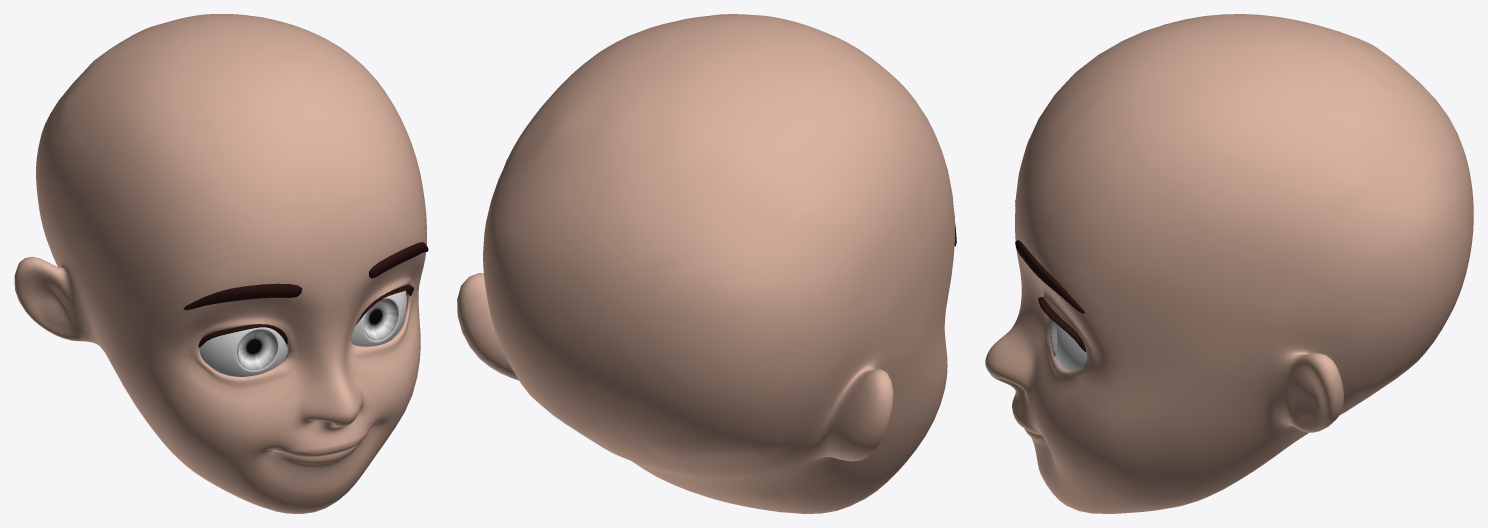
The picture shows the model from 3 angles, left to right: view 1: azimuth 30°, elevation 25°; view 2: azimuth 150°, elevation 25°; view 3: azimuth 270°, elevation 25°; orthographic projection. The views are drawn at different scales.
Parts seen in each view (by area): view 1: skin, eyes, brows, lashes; view 2: skin; view 3: skin, eyes, brows.
Boxes of the visible parts, bbox=[...] form: skin: bbox=[14, 14, 426, 513]; eyes: bbox=[199, 290, 406, 376]; brows: bbox=[183, 242, 428, 310]; lashes: bbox=[198, 285, 413, 347]; skin: bbox=[457, 14, 954, 513]; skin: bbox=[985, 14, 1473, 513]; eyes: bbox=[1049, 318, 1086, 370]; brows: bbox=[1015, 200, 1084, 313].
Size of the model in its own units: 1.79 by 2 by 1.9.
Materials: 9 (1 with a texture image).
